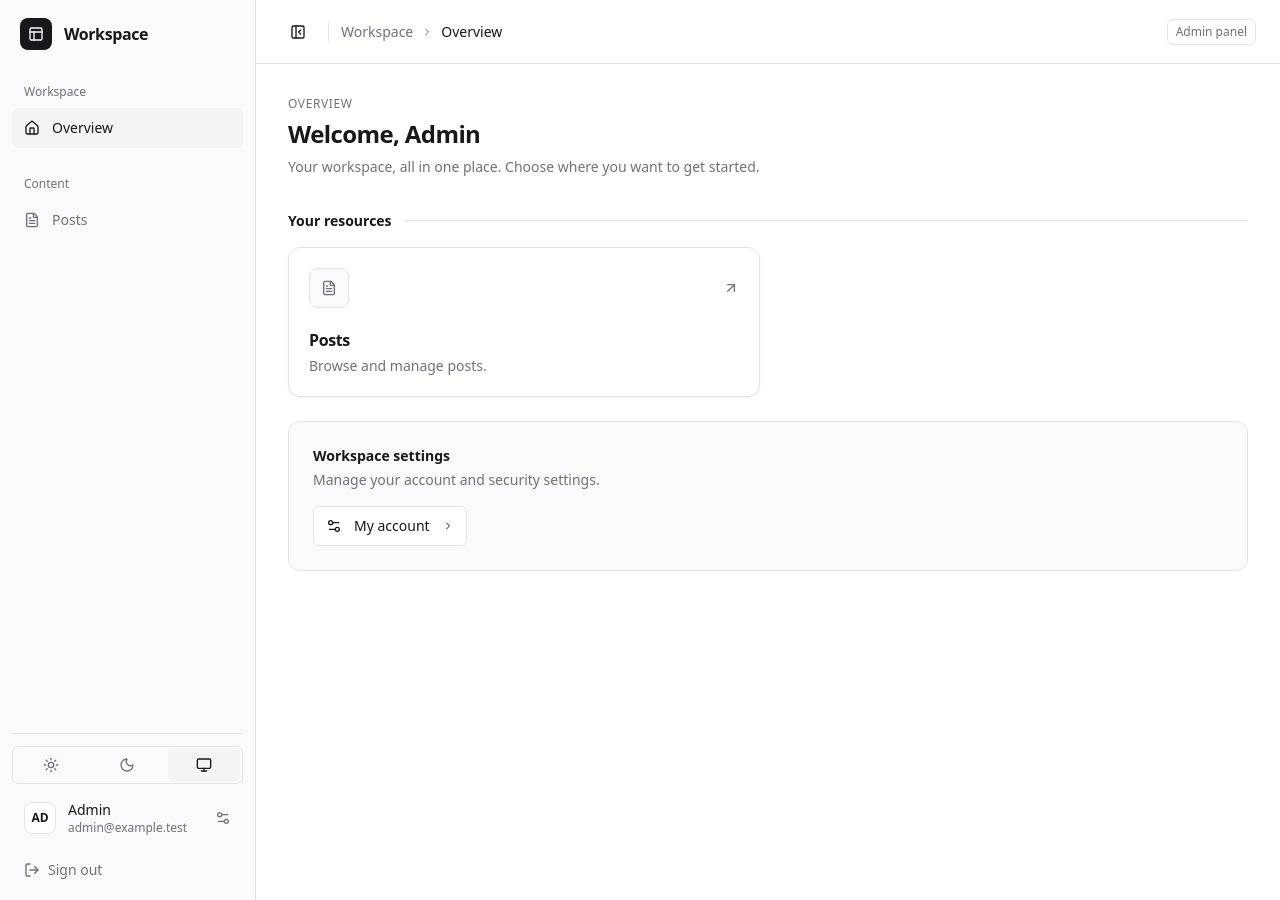
keeps page content mounted across collapse and panel refresh
Click the button named "Collapse sidebar" at (298, 32), box [280,14,316,50]
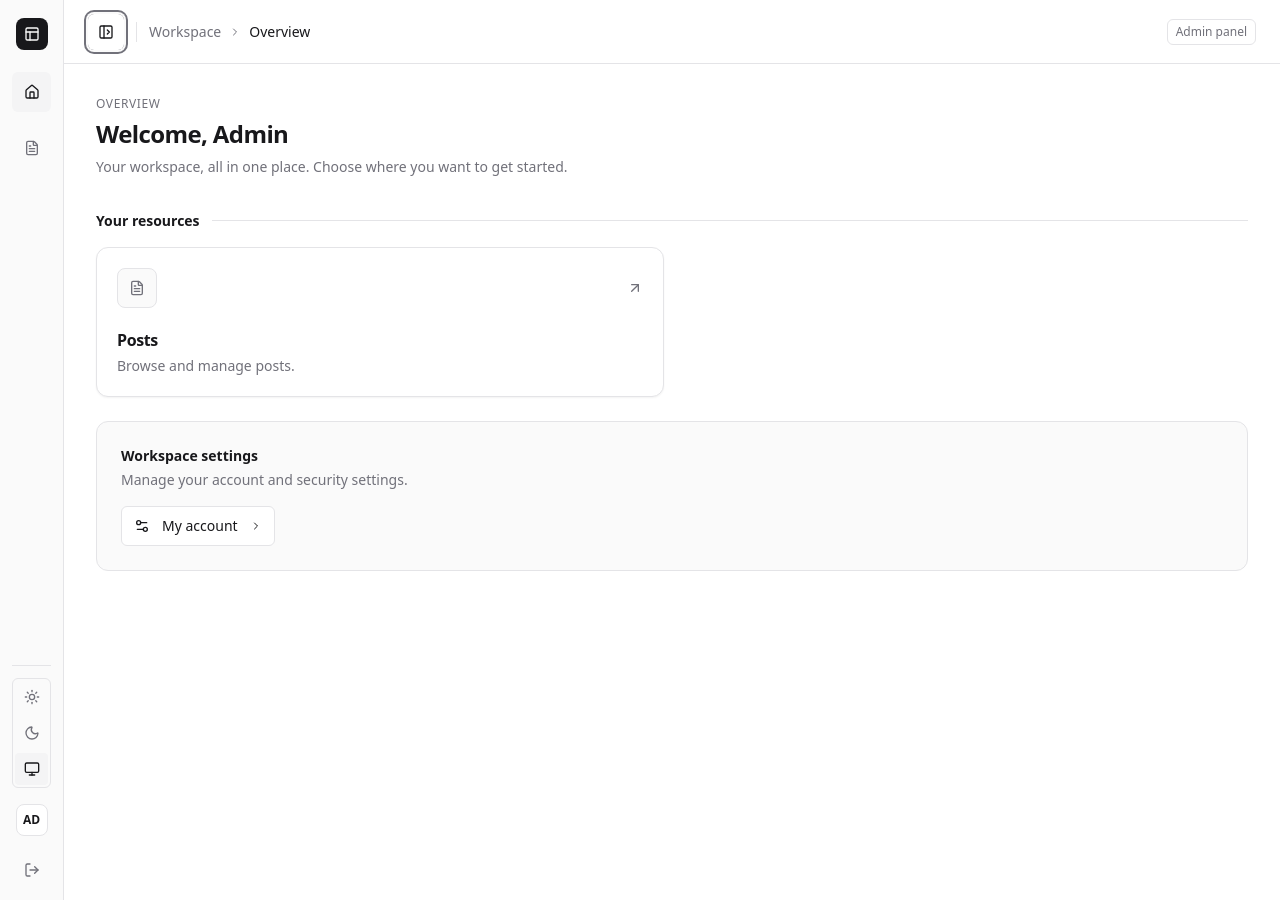
Expected: the button named "Expand sidebar" is collapsed, [88,14,124,50]
